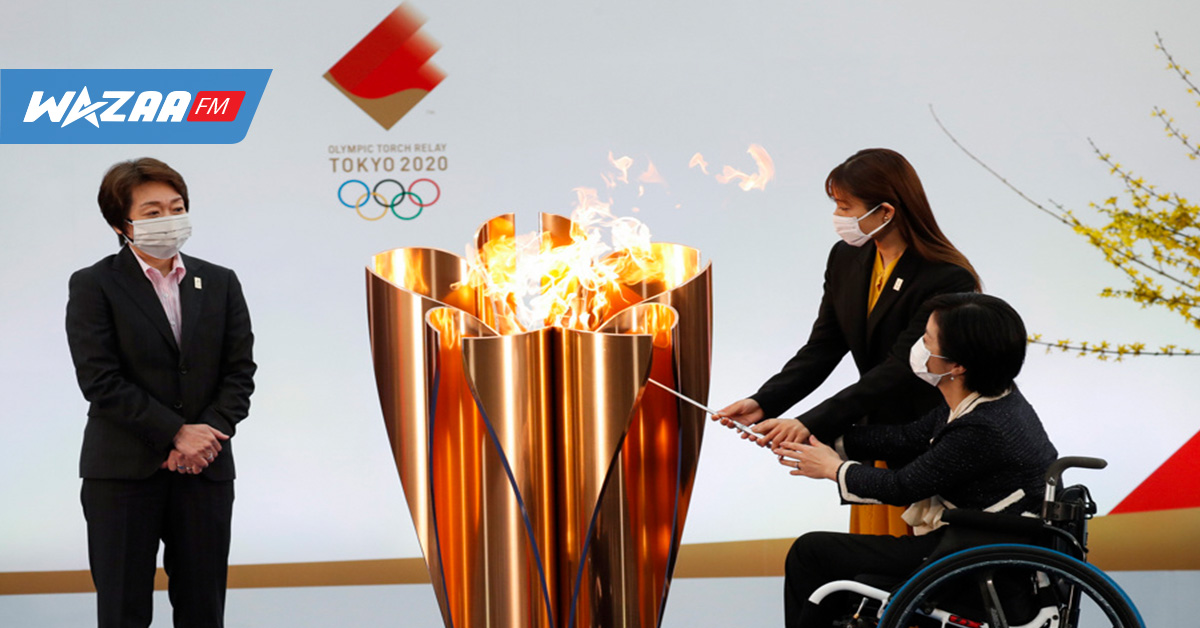with_mask: (112, 183, 198, 261), (906, 314, 968, 395), (819, 187, 901, 246)
